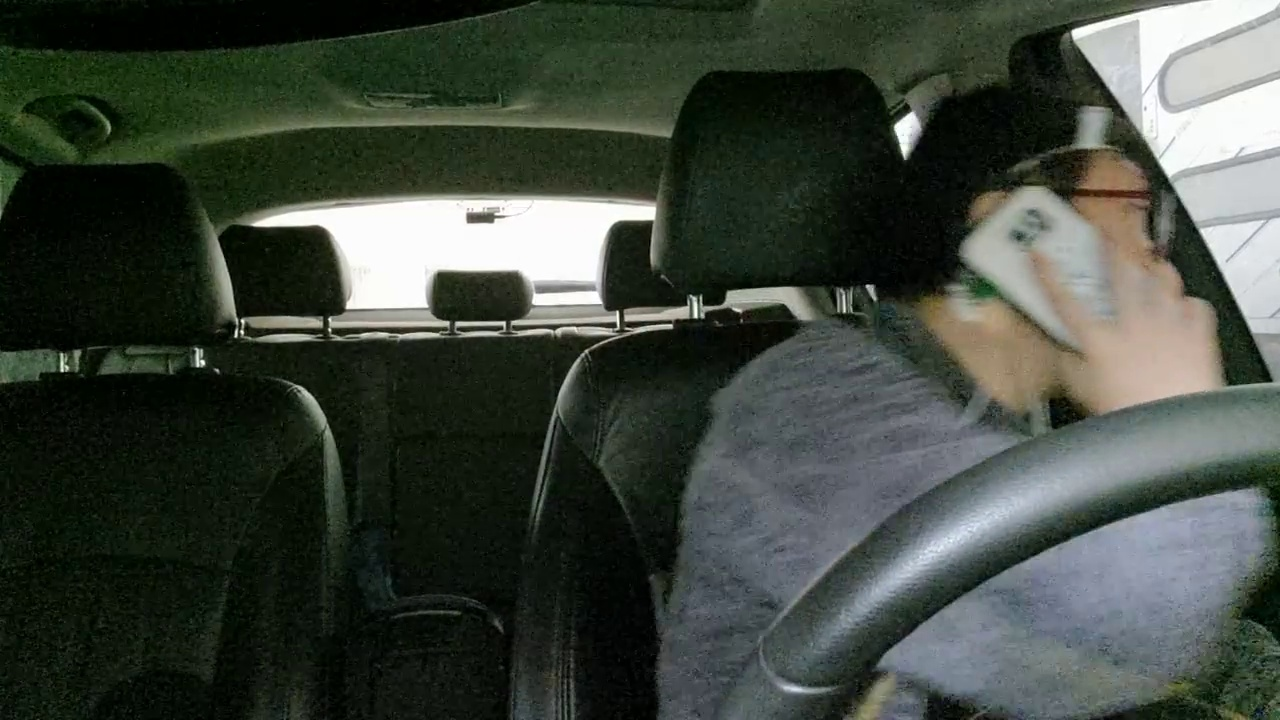phone: (949, 167, 1162, 382)
